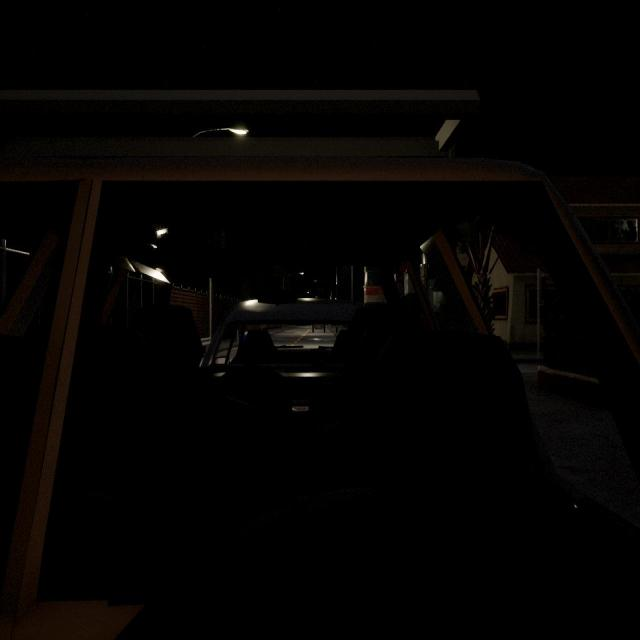Vehicle: (0, 93, 640, 640), (197, 299, 362, 404), (312, 323, 326, 333)
traffic_light: (540, 277, 547, 300)
